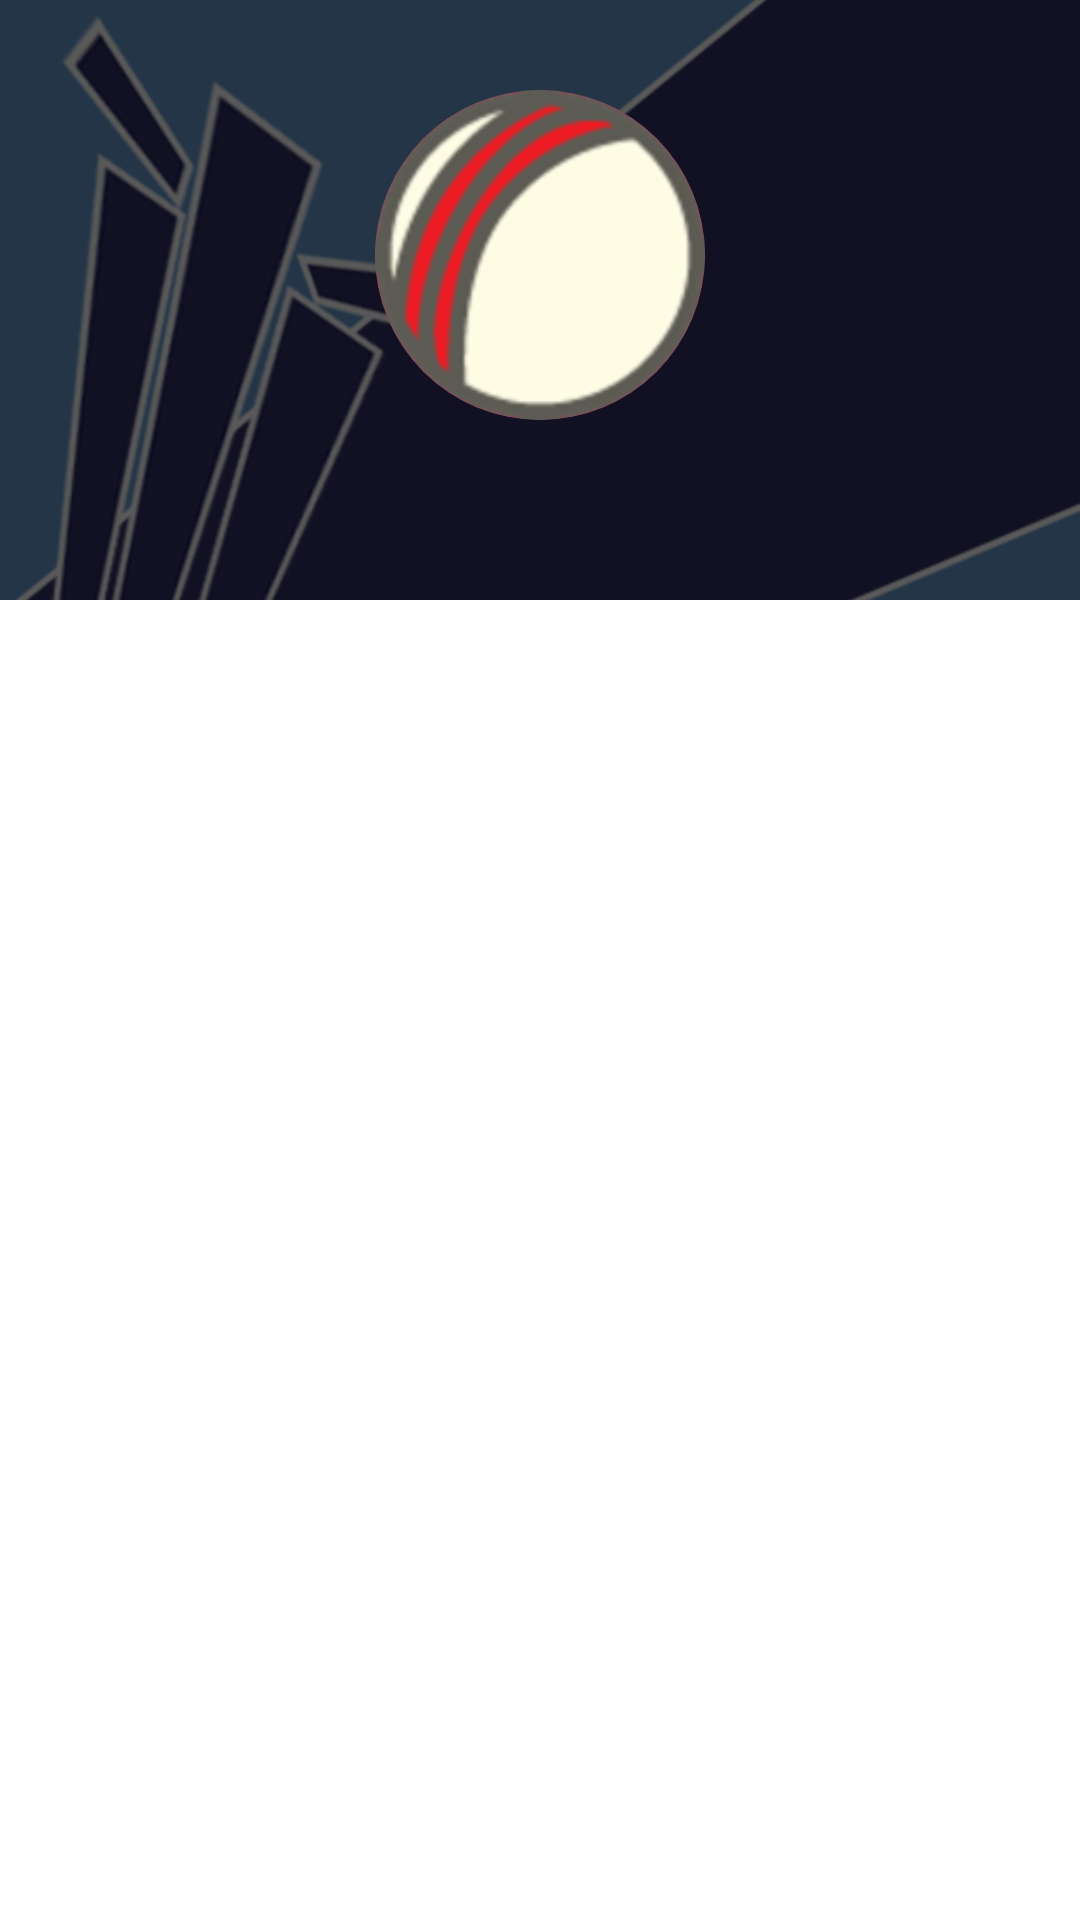

Screen size 1080x1920. Icon name, then its box in pixels as (x1, y1, x2, y2):
ball: (375, 90, 705, 420)
